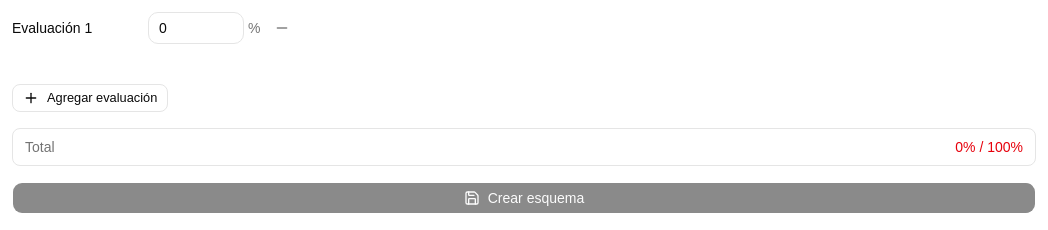
it: EvaluationSchemeForm — blur validation › shows error on blur when field is empty
The width and height of the screenshot is (1048, 230).
Click the number field at point(196, 28), box [148,12,244,44]
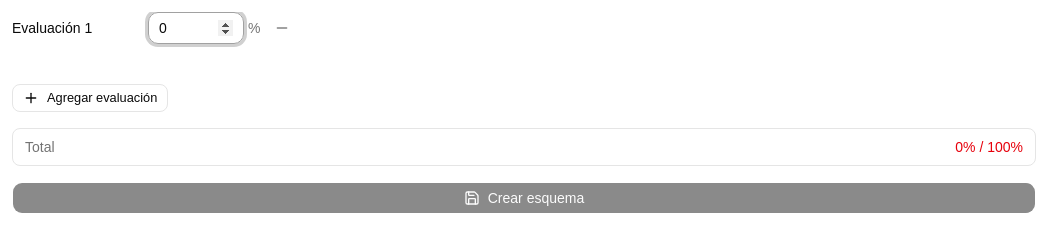
Press Tab
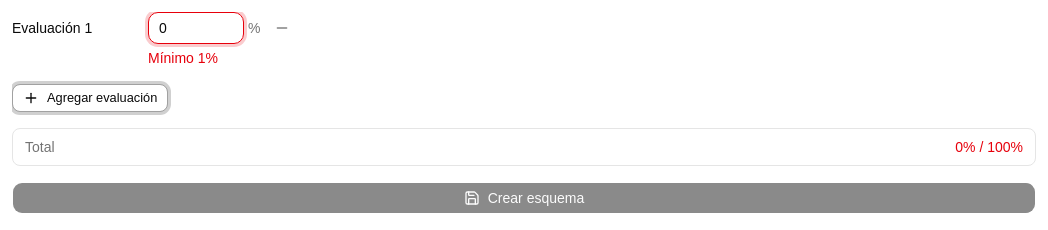
Now the message "Mínimo 1%" is shown, box [148,50,218,66]
